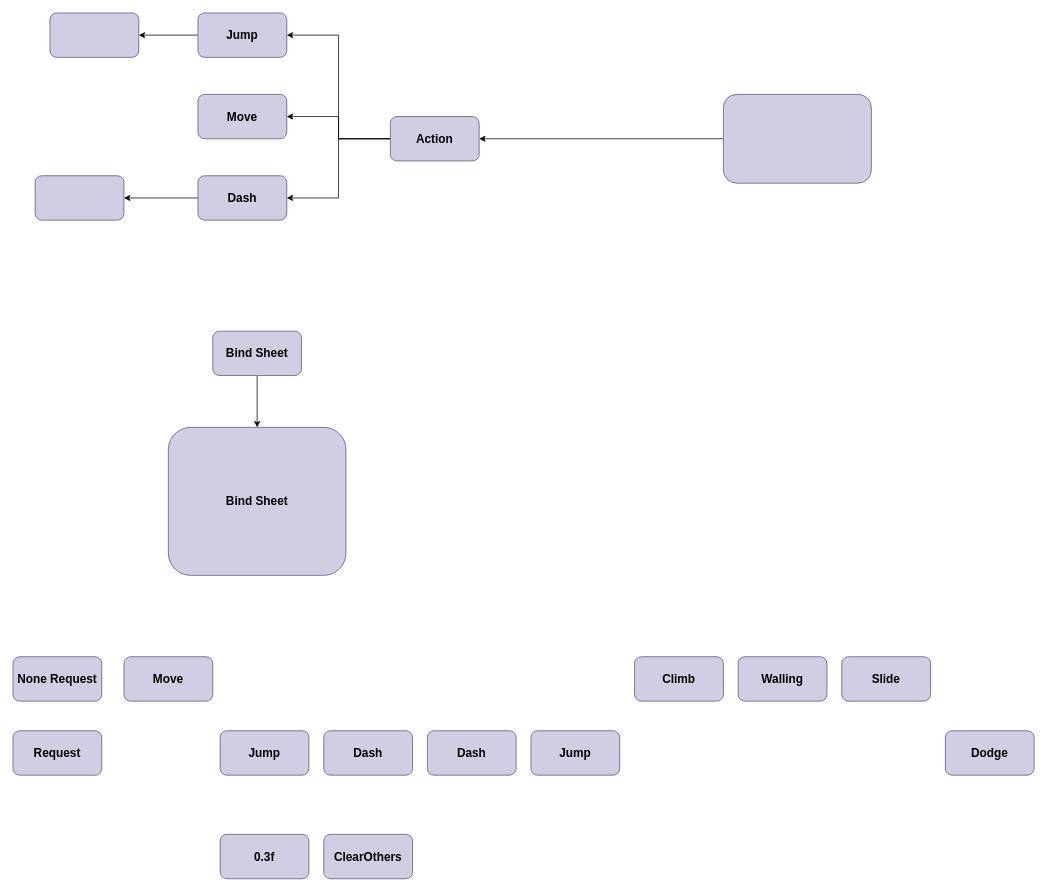
Some shapes in this 1047 by 892 pixel diagram are drawn without their labels. Each missing label, with the centre of its shape:
"Can Move" goes at point (94, 34).
"Cannot Move" goes at point (79, 197).
"CharControlle r" goes at point (797, 138).
